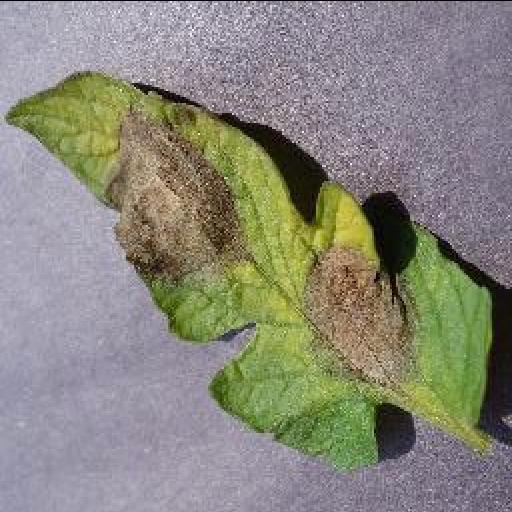disease_tomato: (2, 72, 492, 474)
